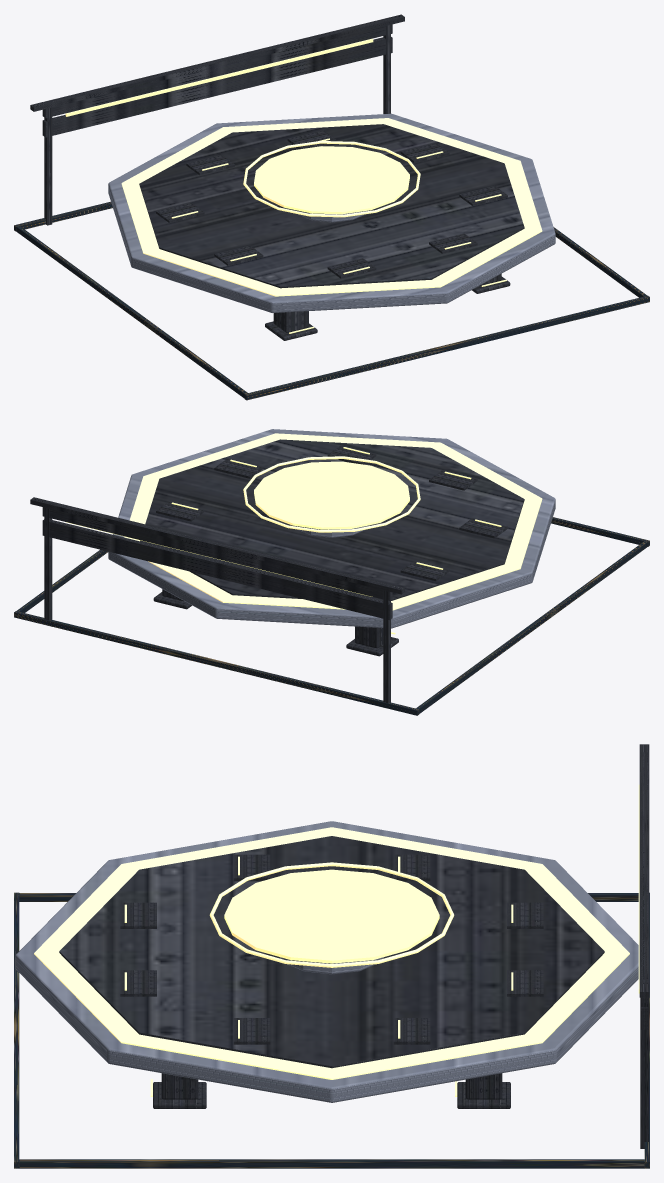
File: bridge_table.glb
3 views of the same model, one above another, from view 1: azimuth 30°, elevation 25°; view 2: azimuth 150°, elevation 25°; view 3: azimuth 270°, elevation 25° (orthographic). The views are drawn at different scales.
Visible parts, largest first — view 1: panel, sight_shell, deck, edgeline, holodisc, shelltoe0, shelltoes0, holoring, sightglow, shelltoes2, shelltoe2, leg00 (+7 smaller); view 2: panel, sight_shell, deck, holodisc, edgeline, shelltoe2, shelltoes0, holoring, shelltoe0, shelltoes2, pad7, pad3 (+5 smaller); view 3: panel, deck, edgeline, holodisc, shelltoes2, sight_shell, holoring, shelltoe0, pad0, pad7, pad1, pad2 (+10 smaller).
Boxes of the visible parts, x1=… form: panel: x1=139, y1=124, x2=524, y2=288; sight_shell: x1=30, y1=14, x2=404, y2=225; deck: x1=108, y1=113, x2=555, y2=312; edgeline: x1=121, y1=118, x2=542, y2=296; holodisc: x1=254, y1=146, x2=409, y2=214; shelltoe0: x1=244, y1=296, x2=649, y2=400; shelltoes0: x1=16, y1=226, x2=248, y2=398; holoring: x1=243, y1=141, x2=420, y2=217; sightglow: x1=65, y1=38, x2=373, y2=116; shelltoes2: x1=553, y1=227, x2=647, y2=297; shelltoe2: x1=14, y1=201, x2=112, y2=231; leg00: x1=273, y1=311, x2=308, y2=332; panel: x1=140, y1=439, x2=524, y2=600; sight_shell: x1=30, y1=497, x2=404, y2=703; deck: x1=108, y1=429, x2=555, y2=628; holodisc: x1=254, y1=461, x2=409, y2=529; edgeline: x1=124, y1=433, x2=542, y2=610; shelltoe2: x1=14, y1=611, x2=419, y2=715; shelltoes0: x1=416, y1=541, x2=647, y2=713; holoring: x1=243, y1=456, x2=420, y2=532; shelltoe0: x1=551, y1=517, x2=649, y2=546; shelltoes2: x1=16, y1=549, x2=107, y2=612; pad7: x1=214, y1=458, x2=263, y2=478; pad3: x1=400, y1=561, x2=449, y2=581; panel: x1=59, y1=836, x2=604, y2=1068; deck: x1=15, y1=821, x2=638, y2=1102; edgeline: x1=34, y1=827, x2=629, y2=1079; holodisc: x1=224, y1=869, x2=439, y2=963; shelltoes2: x1=19, y1=1159, x2=644, y2=1168; sight_shell: x1=639, y1=744, x2=649, y2=1148; holoring: x1=209, y1=862, x2=454, y2=967; shelltoe0: x1=14, y1=892, x2=19, y2=1168; pad0: x1=393, y1=1018, x2=430, y2=1044; pad7: x1=233, y1=1018, x2=270, y2=1044; pad1: x1=507, y1=970, x2=543, y2=996; pad2: x1=507, y1=902, x2=543, y2=928.
Bounding box in the file's own units: 5.91 × 1.7 × 5.9.
6 materials, 4 textured.
